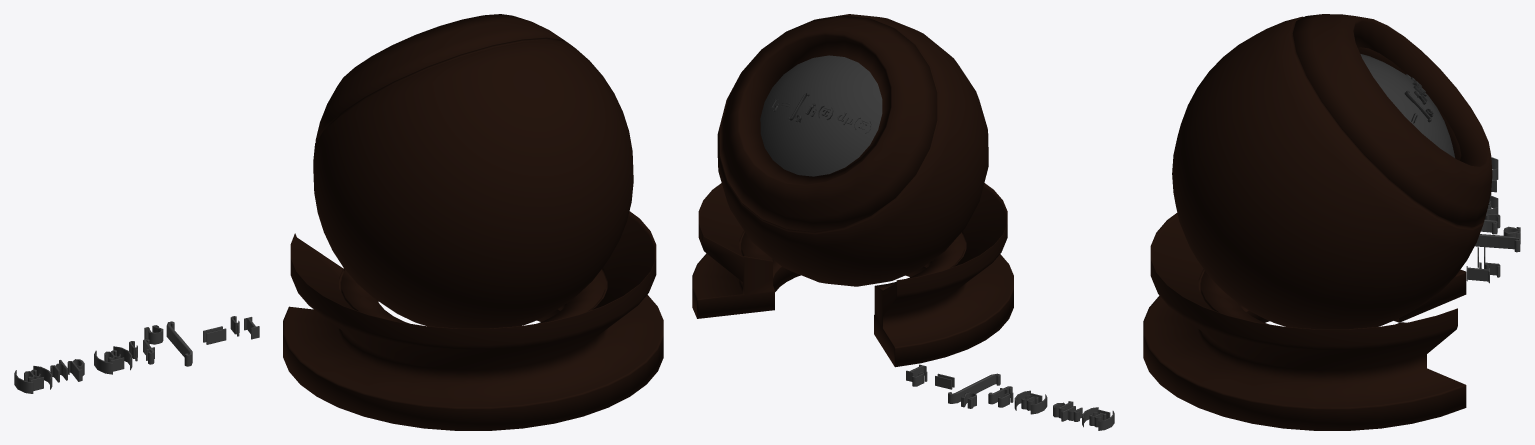
The model's file is testObj.obj.
The picture shows the model from 3 angles, left to right: view 1: azimuth 30°, elevation 25°; view 2: azimuth 150°, elevation 25°; view 3: azimuth 270°, elevation 25°; orthographic projection. The views are drawn at different scales.
Parts seen in each view (by area): view 1: OuterMat, LTELogo; view 2: OuterMat, InnerMat, LTELogo; view 3: OuterMat, InnerMat, LTELogo.
Boxes of the visible parts, <box> form: OuterMat: <box>283,14,663,430</box>; LTELogo: <box>14,316,259,393</box>; OuterMat: <box>692,14,1013,367</box>; InnerMat: <box>760,55,882,176</box>; LTELogo: <box>906,364,1114,430</box>; OuterMat: <box>1143,14,1492,430</box>; InnerMat: <box>1360,54,1454,157</box>; LTELogo: <box>1466,157,1520,283</box>.
Bounding box in the file's own units: 1.79 × 1.02 × 1.08.
